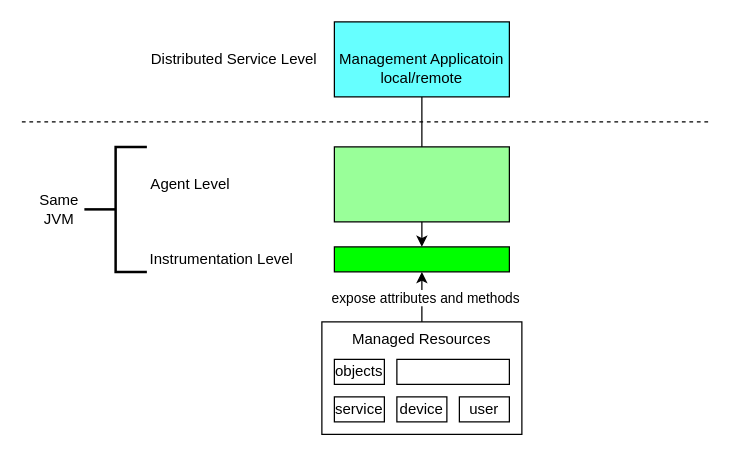
Some shapes in this 733 by 456 pixel diagram are drawn without their labels. The centre of each missing label's shape, as x and y in pixels:
"application" goes at [452,371].
"MBean Server (Agent)" goes at [421,184].
"MBeans" goes at [421,259].
